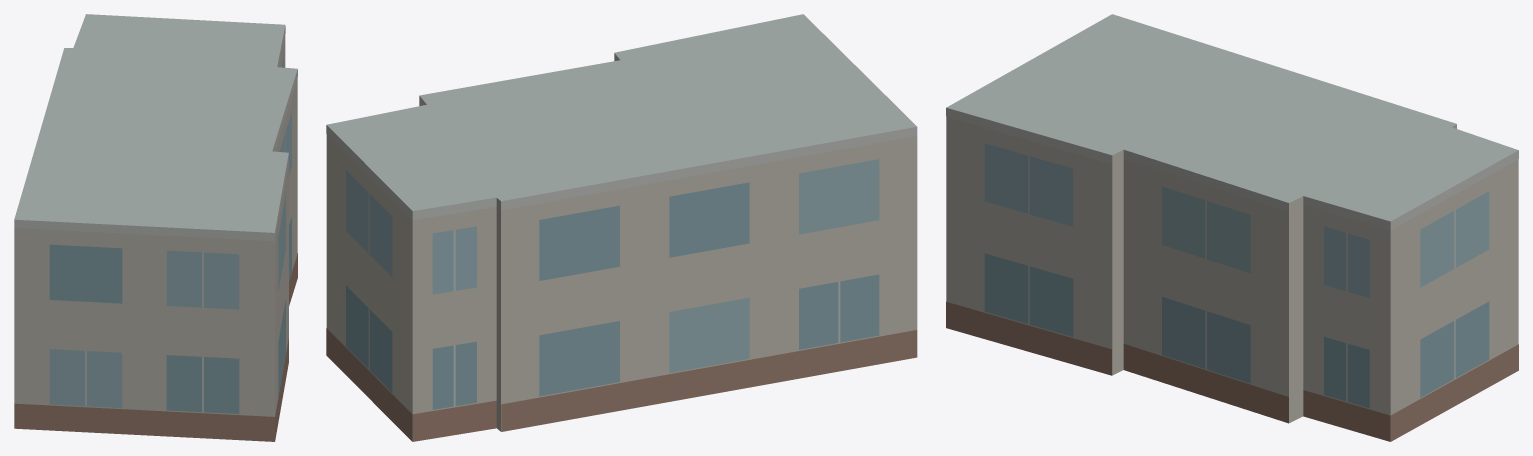
File: survey-upis-32653303.glb
3 renders of one model, left to right at view 1: azimuth 30°, elevation 25°; view 2: azimuth 150°, elevation 25°; view 3: azimuth 270°, elevation 25°, orthographic. The views are drawn at different scales.
Parts seen in each view (by area): view 1: survey-upis-32653303.tmp; view 2: survey-upis-32653303.tmp; view 3: survey-upis-32653303.tmp.
Part boxes in pixels (x1,y1,x2,y2): survey-upis-32653303.tmp: [14, 14, 297, 441]; survey-upis-32653303.tmp: [326, 14, 917, 441]; survey-upis-32653303.tmp: [946, 14, 1518, 441].
Bounding box in the file's own units: 12.33 × 6.1 × 14.37.
